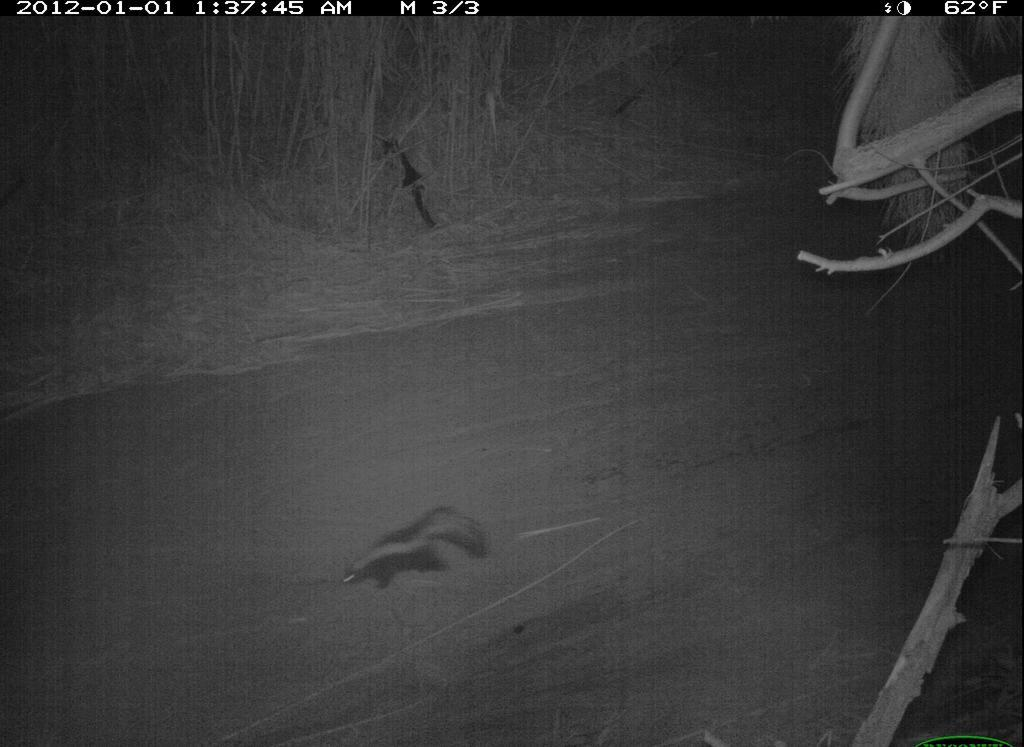skunk: (332, 497, 498, 605)
